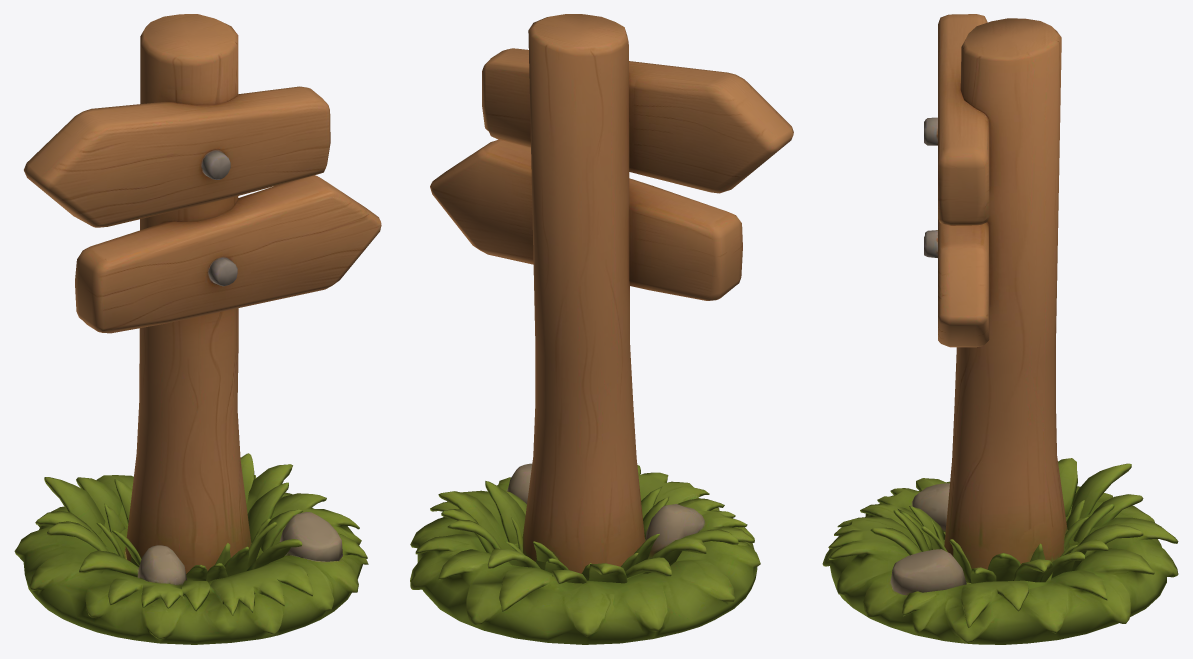
The model's file is signpost.glb.
The picture shows the model from 3 angles, left to right: view 1: azimuth 30°, elevation 25°; view 2: azimuth 150°, elevation 25°; view 3: azimuth 270°, elevation 25°; orthographic projection. The views are drawn at different scales.
Parts seen in each view (by area): view 1: Signpost; view 2: Signpost; view 3: Signpost.
Part boxes in pixels (<box>): Signpost: <box>14,14,381,644</box>; Signpost: <box>410,14,793,644</box>; Signpost: <box>822,14,1178,644</box>.
Size of the model in its own units: 0.6621 by 0.998 by 0.5957.
1 material, 1 textured.
